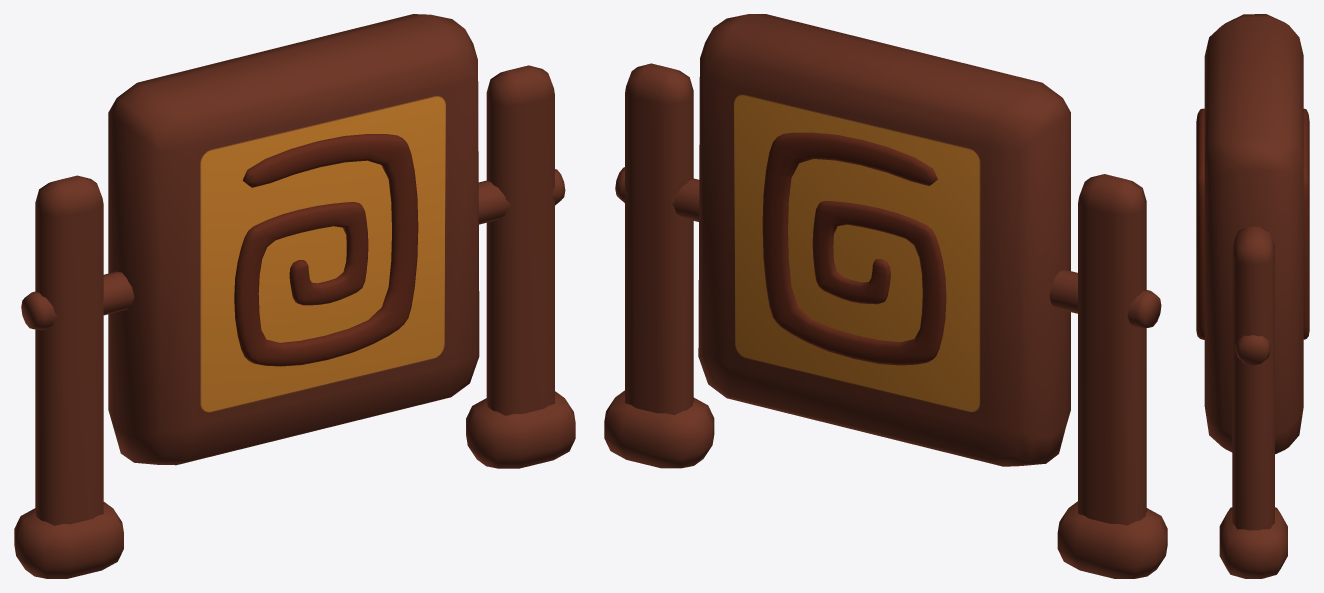
The model's file is Button.fbx.
The picture shows the model from 3 angles, left to right: view 1: azimuth 30°, elevation 25°; view 2: azimuth 150°, elevation 25°; view 3: azimuth 270°, elevation 25°; orthographic projection. The views are drawn at different scales.
Visible parts, largest first — view 1: Button8, Button4, Button7, Button3; view 2: Button8, Button4, Button7, Button3; view 3: Button8, Button4, Button7, Button3.
Part boxes in pixels (x1=…): Button8: x1=108, y1=14, x2=479, y2=465; Button4: x1=14, y1=65, x2=575, y2=578; Button7: x1=234, y1=134, x2=418, y2=366; Button3: x1=21, y1=169, x2=565, y2=330; Button8: x1=698, y1=14, x2=1070, y2=466; Button4: x1=604, y1=63, x2=1167, y2=578; Button7: x1=762, y1=132, x2=946, y2=365; Button3: x1=615, y1=167, x2=1161, y2=328; Button8: x1=1204, y1=14, x2=1303, y2=454; Button4: x1=1219, y1=226, x2=1287, y2=578; Button7: x1=1196, y1=108, x2=1309, y2=339; Button3: x1=1235, y1=335, x2=1270, y2=365.
Bounding box in the file's own units: 1.45 × 1.16 × 0.2995.
